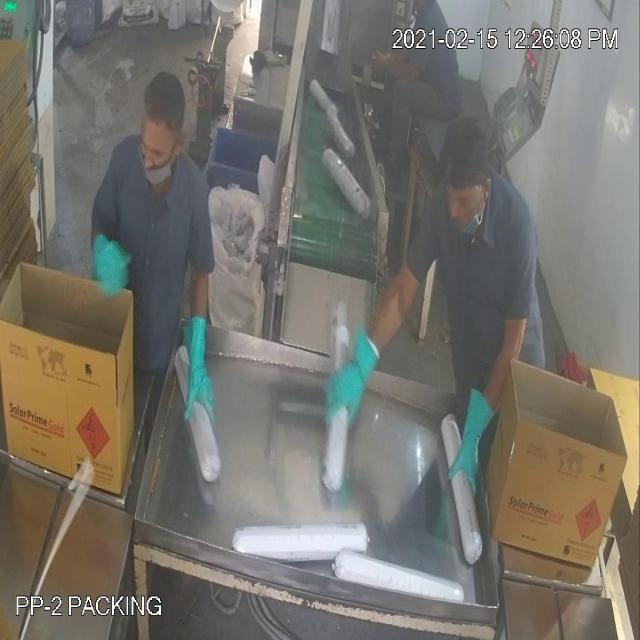Gloves: (40, 42, 473, 444)
